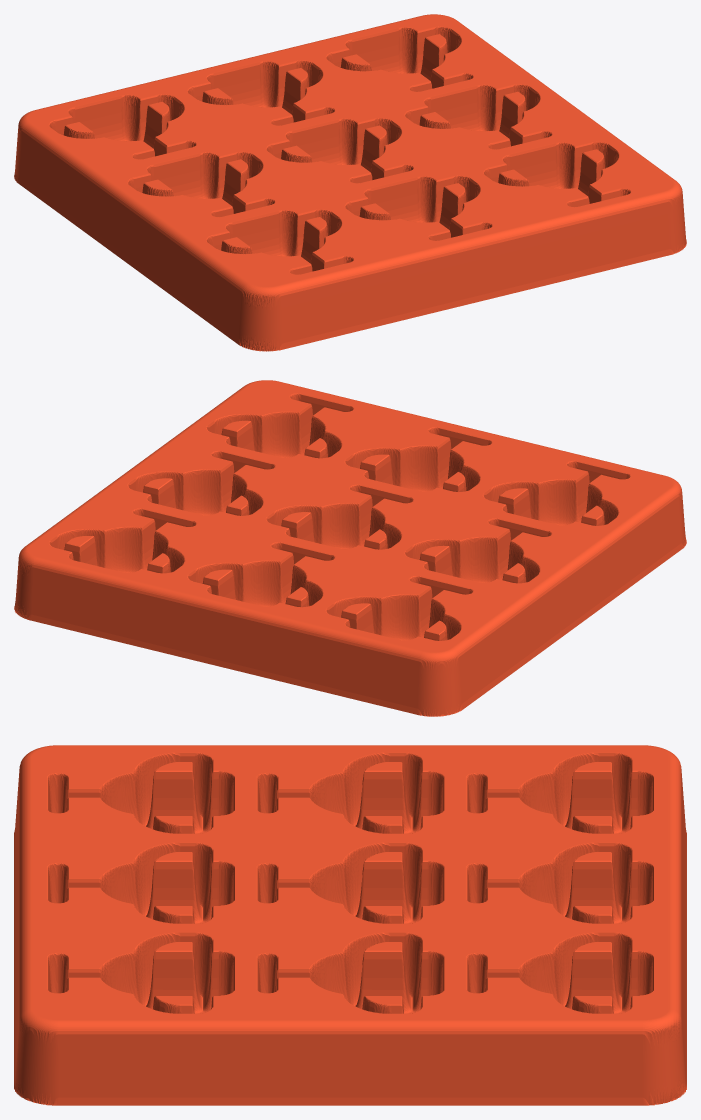
The model's file is mold.glb.
The picture shows the model from 3 angles, top to bottom: view 1: azimuth 30°, elevation 25°; view 2: azimuth 150°, elevation 25°; view 3: azimuth 270°, elevation 25°; orthographic projection. The views are drawn at different scales.
Visible parts, largest first — view 1: geometry_0; view 2: geometry_0; view 3: geometry_0.
Part boxes in pixels (x1,y1,x2,y2): geometry_0: (14,14,686,351); geometry_0: (14,380,686,716); geometry_0: (14,745,686,1105).
Size of the model in its own units: 0.1387 by 0.0175 by 0.1366.
